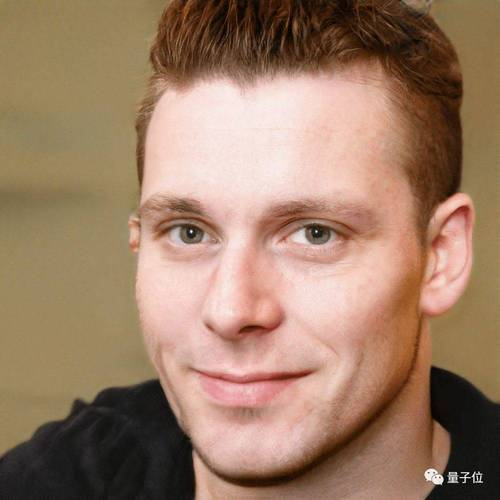no_mask: (130, 60, 421, 478)
